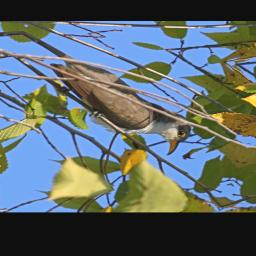Cuckoo: (15, 57, 210, 176)
